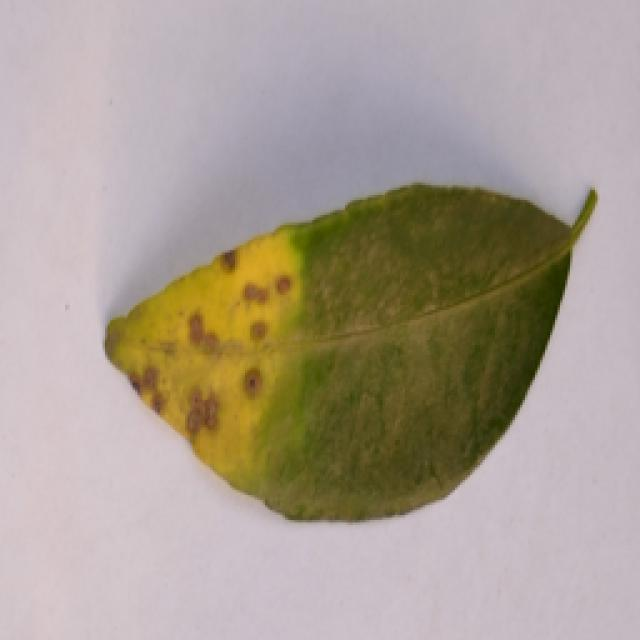canker: (122, 187, 578, 511)
